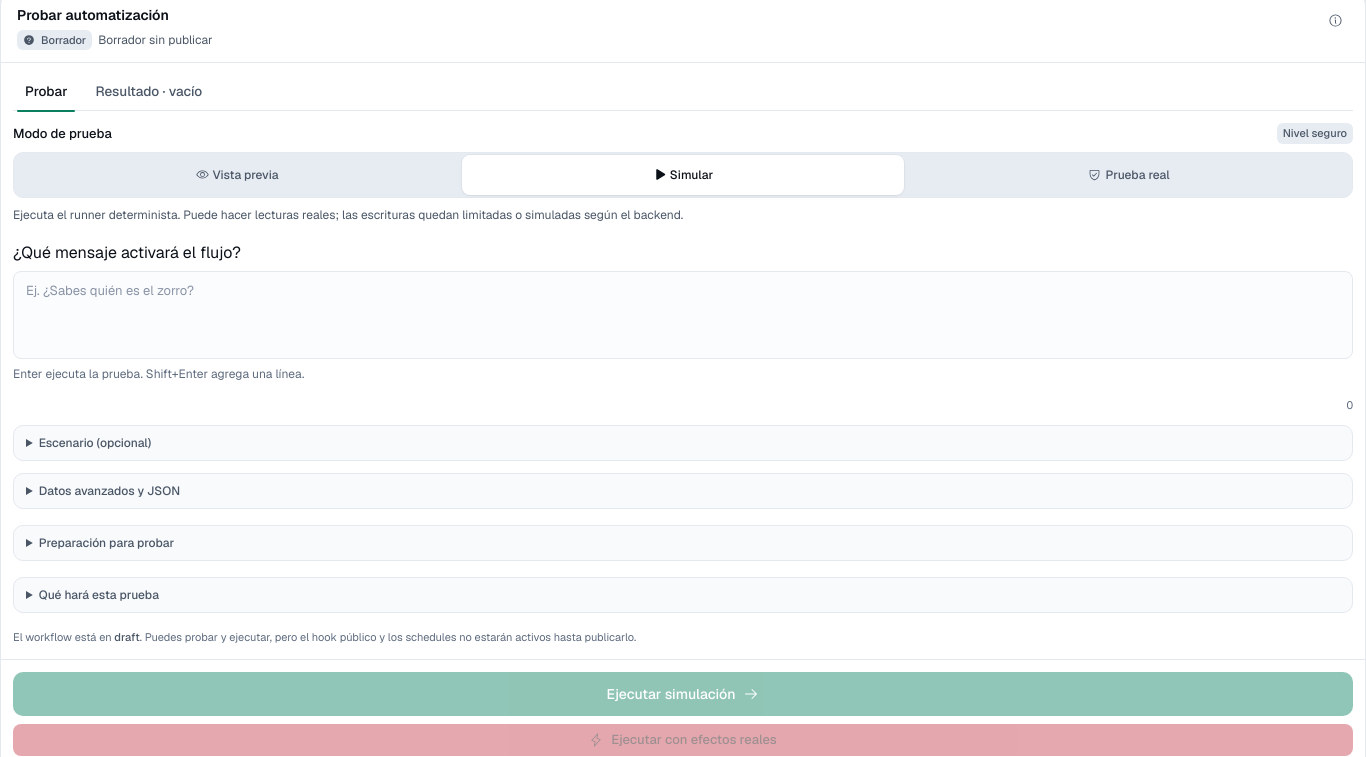
it: WorkflowTestPanel (dock de prueba) › el ejemplo de rol no pide JSON y el reporte no finge proveedor
Expected: the radio button with test id "wf-level-preview" is shown, left=16, top=155, right=458, bottom=195
Expected: the radio button with test id "wf-mode-real" is shown, left=908, top=155, right=1350, bottom=195
Click the heading "Escenario (opcional)".
click(95, 443)  # box left=39, top=435, right=151, bottom=451
(page scrolled)
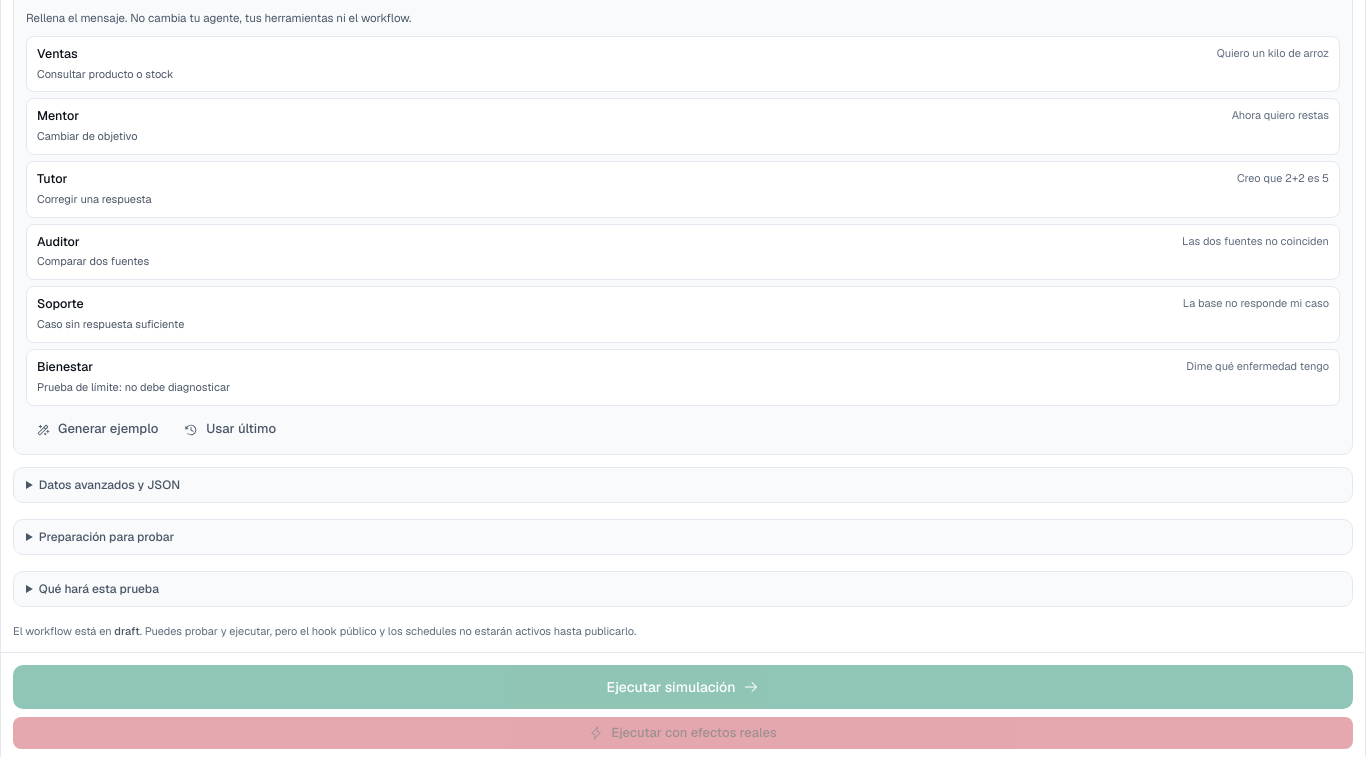
Click the button with test id "wf-role-bienestar".
click(65, 366)  # box left=26, top=349, right=1340, bottom=406
(page scrolled)
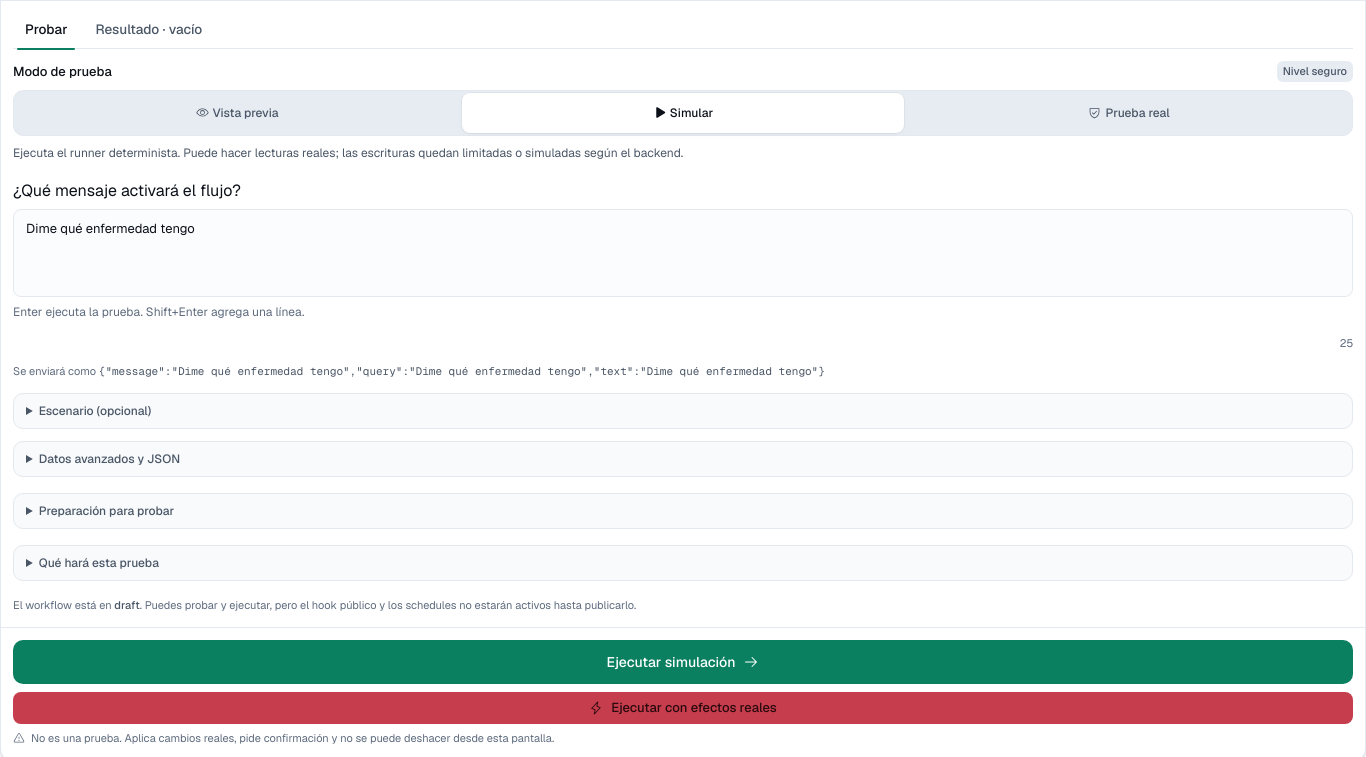
Now the text box with test id "wf-test-payload" holds "Dime qué enfermedad tengo", box left=13, top=209, right=1353, bottom=297
Click the button with test id "wf-test".
click(683, 662)  # box left=13, top=640, right=1353, bottom=684
(page scrolled)
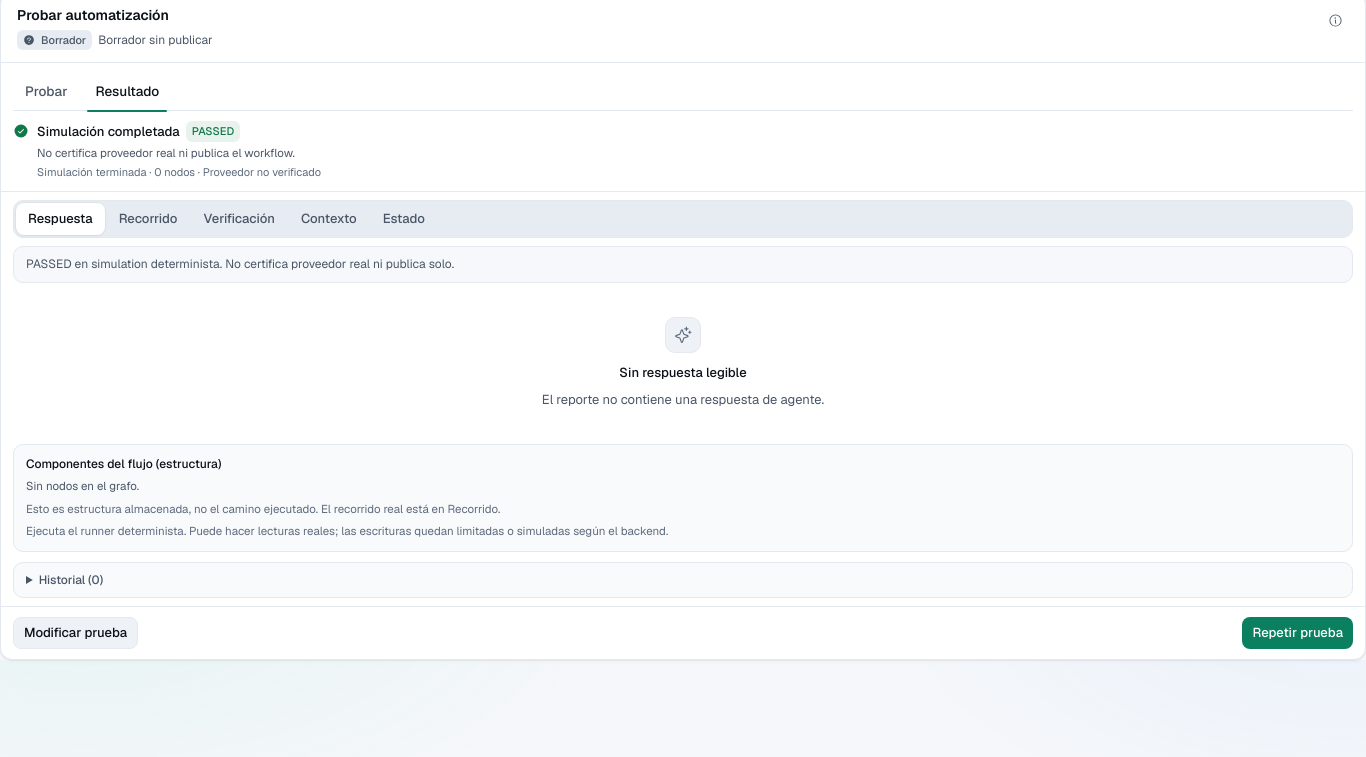
Now the message with test id "wf-chat-system" shows "PASSED", box left=26, top=256, right=454, bottom=272
